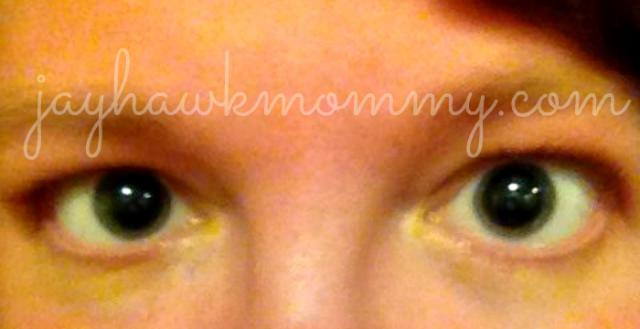eye: (92, 166, 172, 240), (476, 164, 556, 237)
